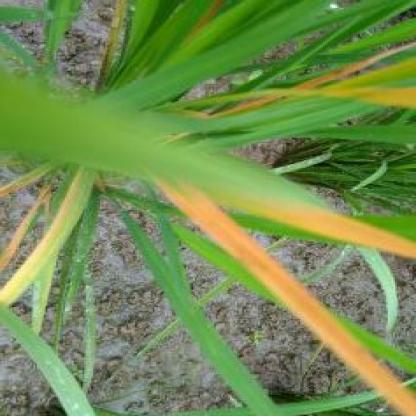Tungro: (152, 185, 416, 416), (203, 199, 416, 262), (1, 166, 94, 305)
